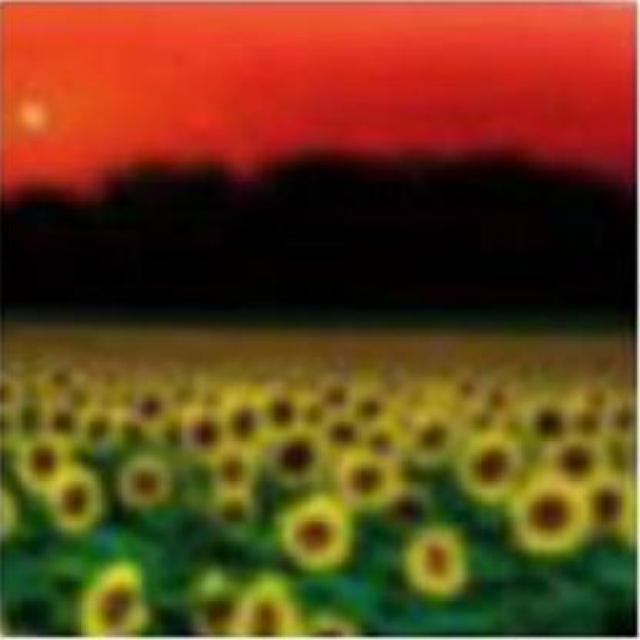sunflower: (76, 554, 153, 635), (513, 482, 589, 555), (461, 428, 526, 502), (404, 523, 469, 596), (277, 501, 348, 564), (54, 474, 108, 536), (118, 454, 176, 511)
